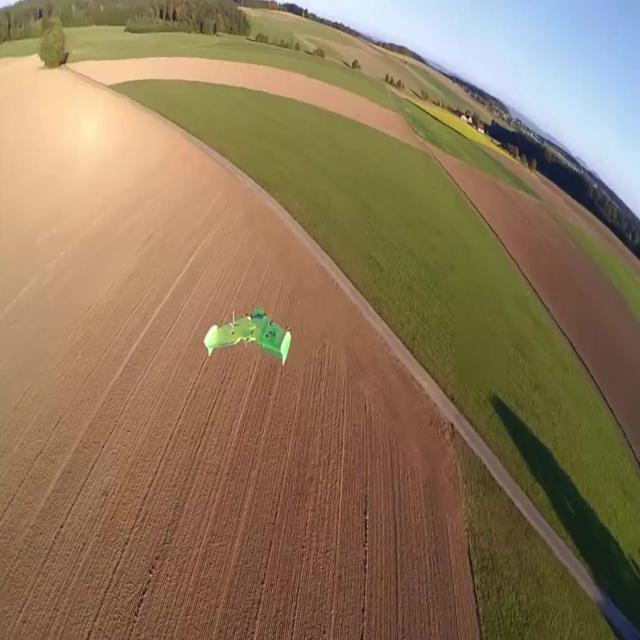iha: (237, 307, 260, 367)
